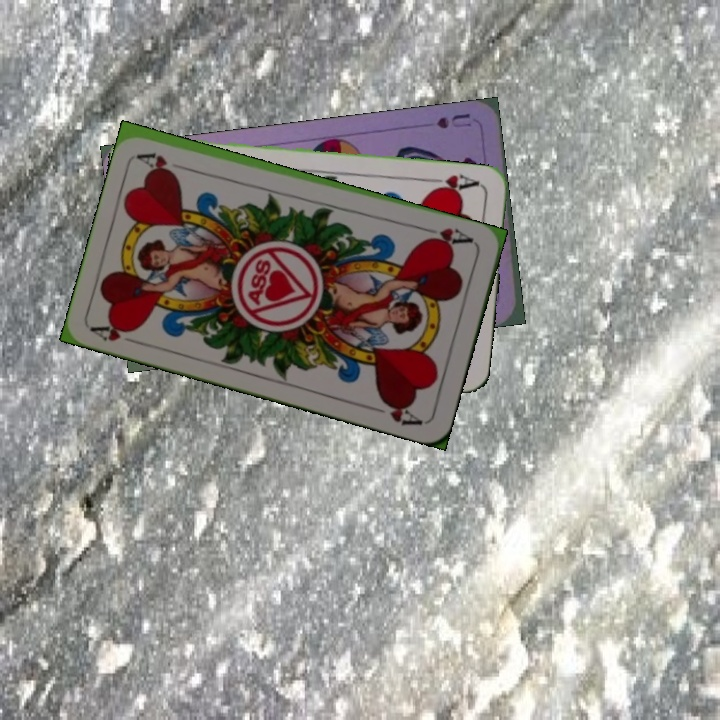HA: (88, 317, 146, 349), (419, 223, 476, 250), (423, 170, 482, 196)
SU: (432, 109, 473, 131)
